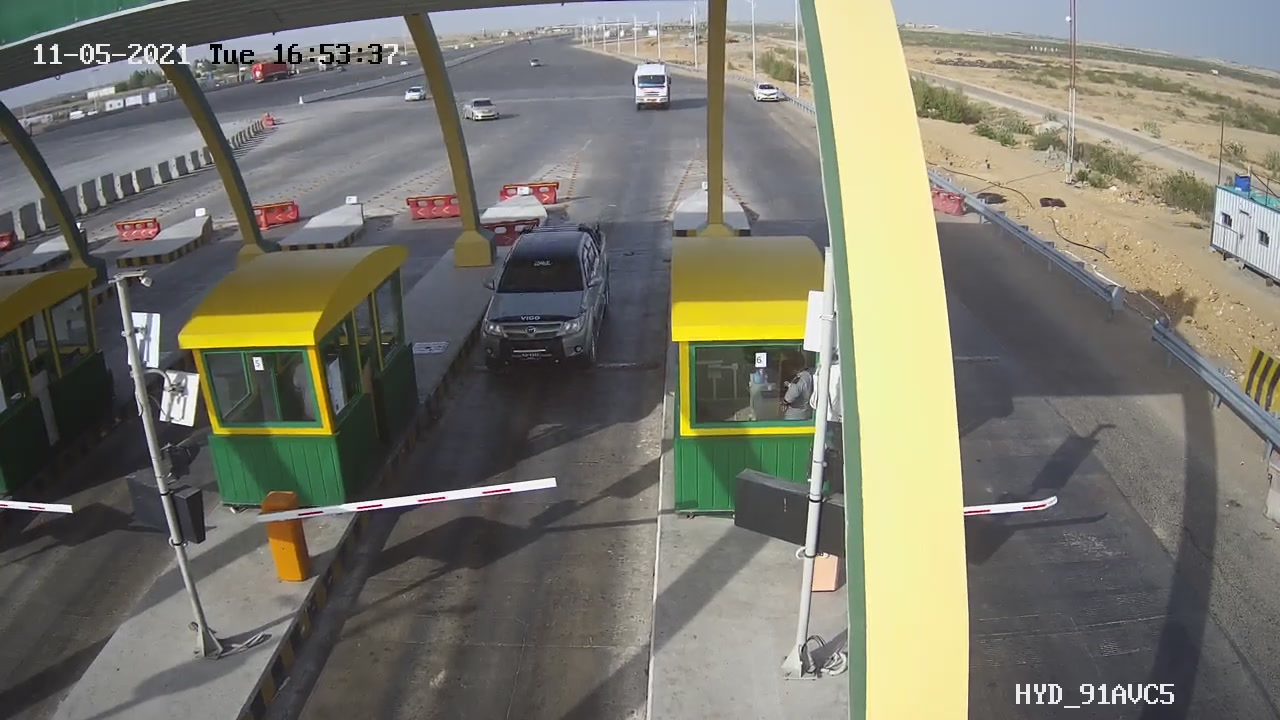F1: (461, 211, 632, 384)
